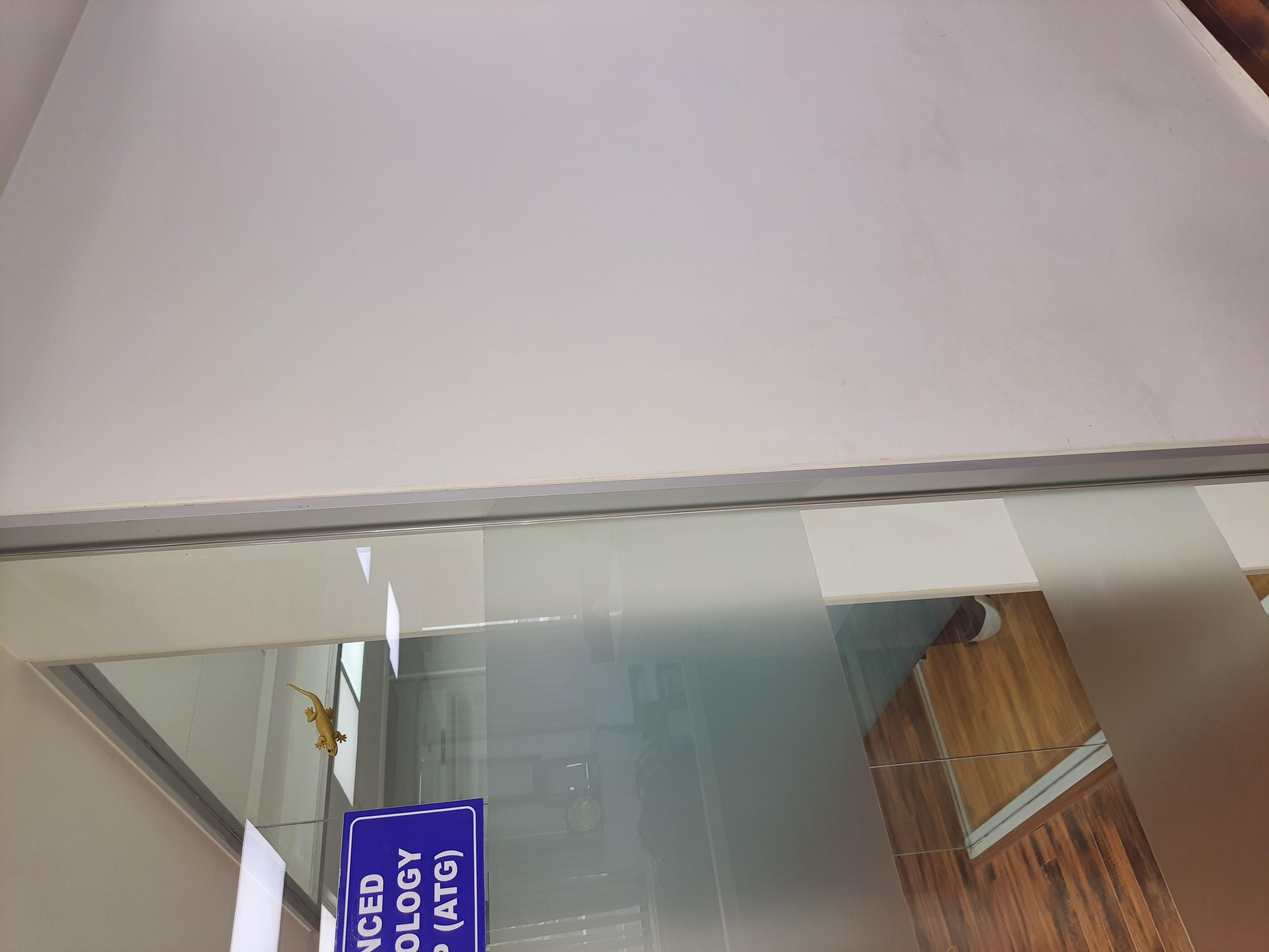lizard: (231, 212, 378, 285)
